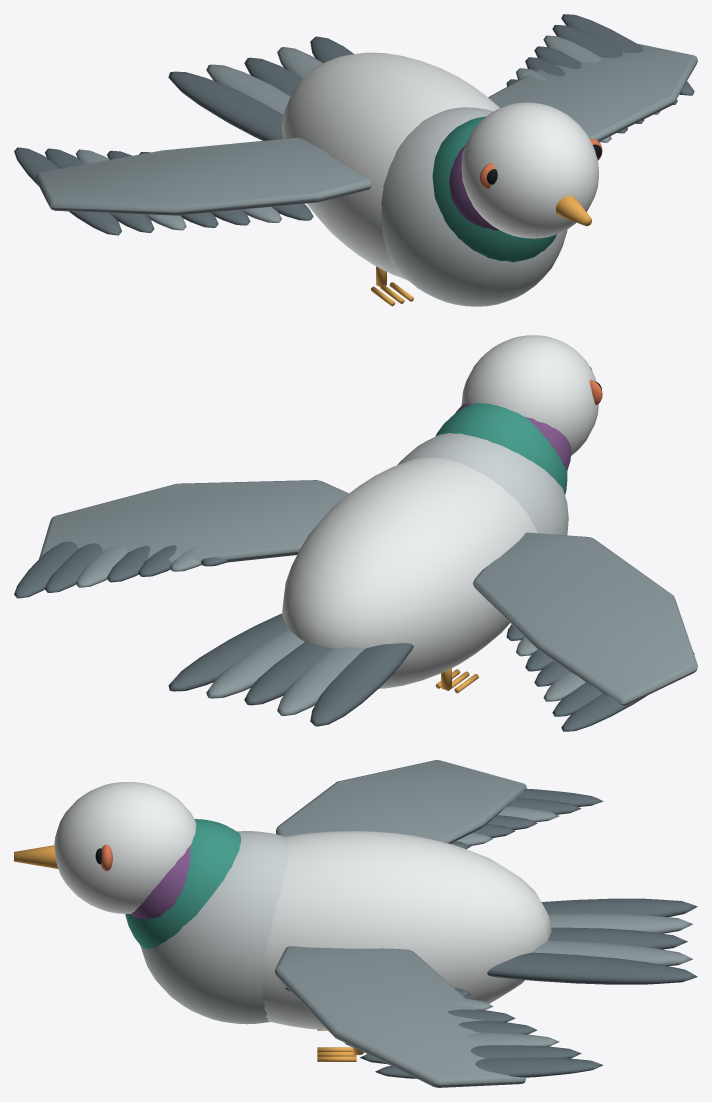
The model's file is pigeon.glb.
The picture shows the model from 3 angles, top to bottom: view 1: azimuth 30°, elevation 25°; view 2: azimuth 150°, elevation 25°; view 3: azimuth 270°, elevation 25°; orthographic projection.
Visible parts, largest first — view 1: Body, WingSurface.L, Breast, Head, WingSurface.R, NeckBase, TailFeather.01, TailFeather.02, Primary.L.07, Primary.R.07, NeckCollar, TailFeather.03 (+11 smaller); view 2: Body, WingSurface.L, WingSurface.R, Head, Breast, NeckBase, TailFeather.01, TailFeather.05, TailFeather.04, TailFeather.02, TailFeather.03, Primary.R.07 (+8 smaller); view 3: Body, WingSurface.R, Breast, Head, WingSurface.L, NeckBase, TailFeather.05, TailFeather.01, Primary.R.07, TailFeather.04, TailFeather.02, TailFeather.03 (+9 smaller).
Part boxes in pixels (x1,y1,x2,y2): Body: (282,52,499,280); WingSurface.L: (35,137,371,215); Breast: (381,107,567,306); Head: (461,102,598,238); WingSurface.R: (488,43,697,141); NeckBase: (432,116,556,262); TailFeather.01: (168,71,283,140); TailFeather.02: (206,64,290,114); Primary.L.07: (14,147,121,235); Primary.R.07: (561,14,694,95); NeckCollar: (449,145,499,230); TailFeather.03: (244,57,302,96); Body: (282,458,537,688); WingSurface.L: (473,532,697,705); WingSurface.R: (39,480,348,565); Head: (461,335,598,455); Breast: (397,433,568,535); NeckBase: (436,403,567,494); TailFeather.01: (310,643,413,726); TailFeather.05: (168,613,287,691); TailFeather.04: (206,630,304,698); TailFeather.02: (277,647,364,715); TailFeather.03: (244,642,331,705); Primary.R.07: (14,541,77,598); Body: (261,831,551,1030); WingSurface.R: (275,946,525,1087); Breast: (140,831,288,1024); Head: (54,782,196,913); WingSurface.L: (276,760,526,843); NeckBase: (125,819,240,949); TailFeather.05: (487,952,697,984); TailFeather.01: (541,898,697,917); Primary.R.07: (375,1057,603,1078); TailFeather.04: (532,940,692,966); TailFeather.02: (548,913,692,933); TailFeather.03: (548,927,687,949).
Size of the model in its own units: 3.79 by 1.43 by 3.5.
